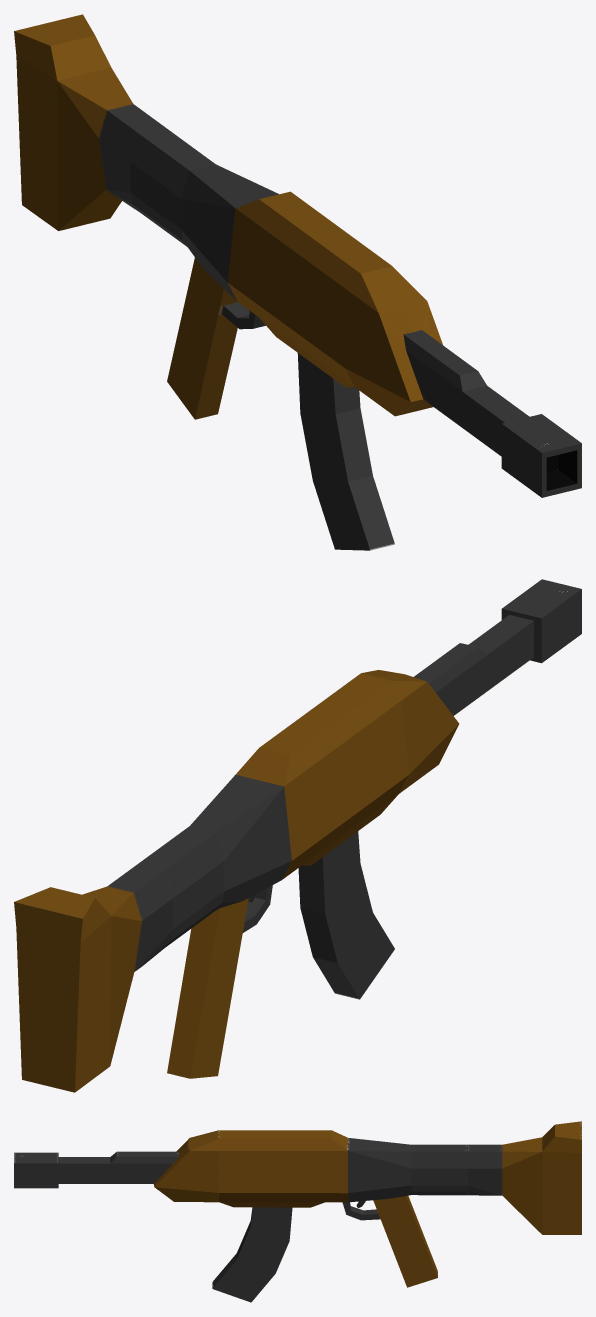
The model's file is Assualt_Rifle.fbx.
The picture shows the model from 3 angles, top to bottom: view 1: azimuth 30°, elevation 25°; view 2: azimuth 150°, elevation 25°; view 3: azimuth 270°, elevation 25°; orthographic projection. The views are drawn at different scales.
Parts seen in each view (by area): view 1: Assult Rifle; view 2: Assult Rifle; view 3: Assult Rifle.
Boxes of the visible parts, box(x1,y1,x2,y2) form: Assult Rifle: box(14, 14, 581, 550); Assult Rifle: box(14, 579, 581, 1092); Assult Rifle: box(14, 1121, 581, 1302).
Size of the model in its own units: 70.19 by 297 by 906.
